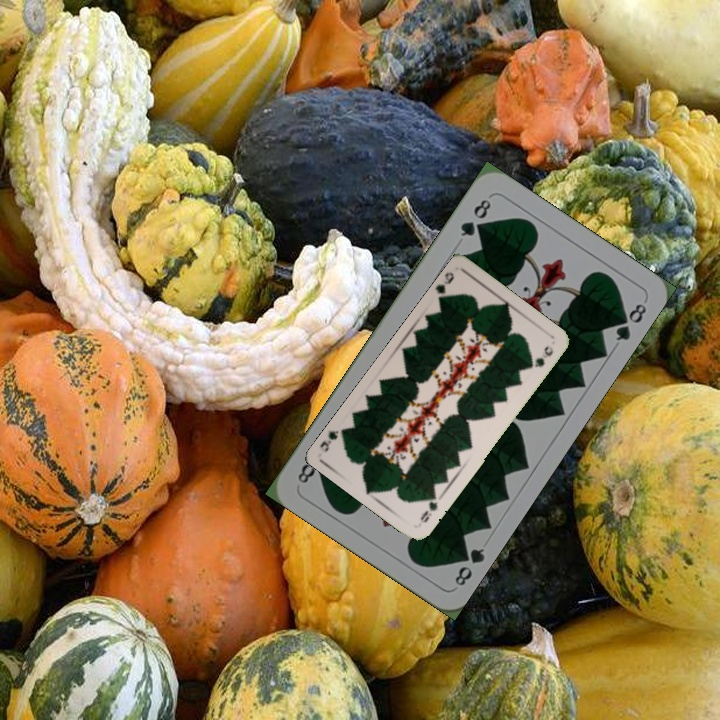G8: (450, 542, 488, 589), (456, 194, 494, 239)
G9: (432, 268, 457, 306), (416, 489, 440, 526)
